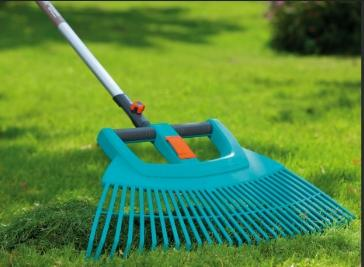RATEAU: (33, 1, 354, 267)
